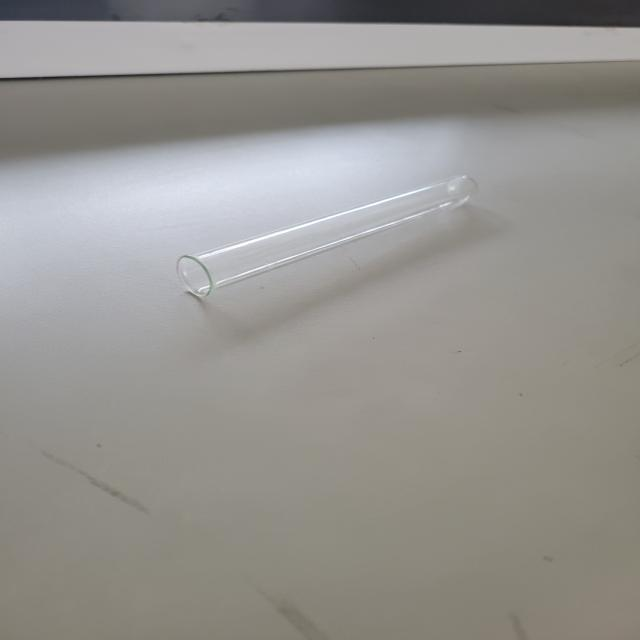Test_Tube: (152, 145, 510, 338)
